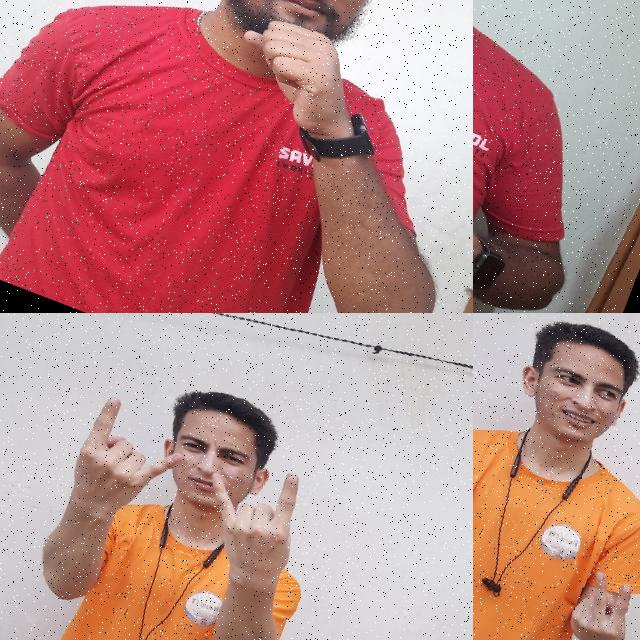Corna: (172, 440, 332, 607), (55, 380, 202, 544)
Fist Mouth: (161, 0, 442, 155)
Reversed Victory: (548, 554, 640, 640)
